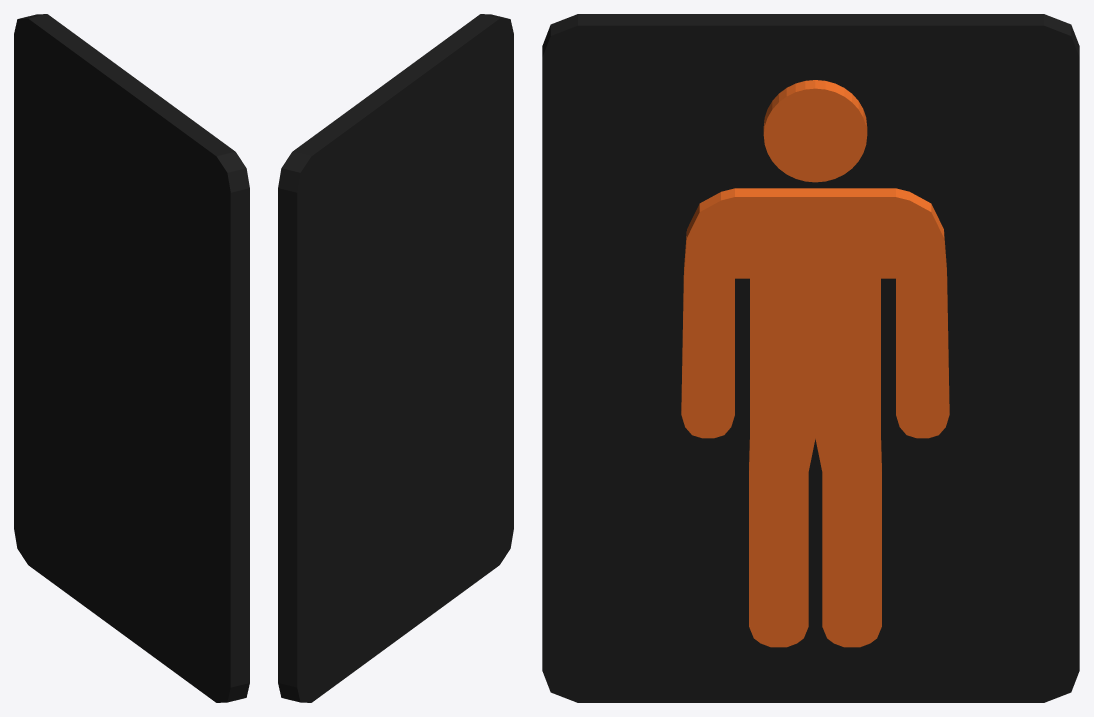
The model's file is MaleSign.fbx.
3 views of the same model, side by side, from view 1: azimuth 30°, elevation 25°; view 2: azimuth 150°, elevation 25°; view 3: azimuth 270°, elevation 25° (orthographic). The views are drawn at different scales.
Visible parts, largest first — view 1: Cube; view 2: Cube; view 3: Cube, Cube.001, Cylinder.
Part boxes in pixels (x1,y1,x2,y2): Cube: (14,14,249,702); Cube: (278,14,513,702); Cube: (542,14,1079,702); Cube.001: (681,188,949,647); Cylinder: (763,80,867,182).
Bounding box in the file's own units: 6.23 × 96.89 × 69.65.
